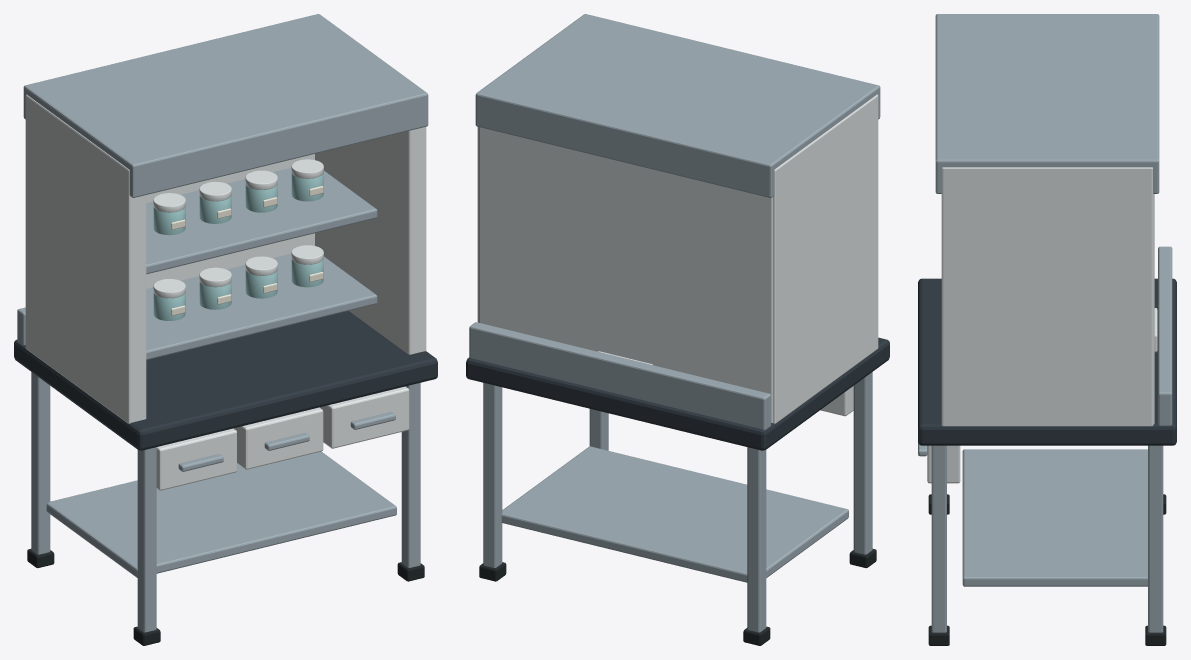
Rendered from culture-cabinet.glb.
3 renders of one model, left to right at view 1: azimuth 30°, elevation 25°; view 2: azimuth 150°, elevation 25°; view 3: azimuth 270°, elevation 25°, orthographic.
Visible parts, largest first — view 1: Canopy, Side, Worktop, Equipment shelf, Side.001, Shelf, Shelf.001, Tubular leg, Cabinet drawer.001, Cabinet drawer.002, Tubular leg.001, Tubular leg.002 (+10 smaller); view 2: Cabinet back, Canopy, Side, Equipment shelf, Splashback, Worktop, Tubular leg.001, Tubular leg.003, Tubular leg, Tubular leg.002; view 3: Side.001, Canopy, Equipment shelf, Worktop, Tubular leg.002, Tubular leg.003, Splashback, Cabinet drawer.002, Cabinet back.
Part boxes in pixels (x1=…): Canopy: x1=23, y1=14, x2=428, y2=197; Side: x1=25, y1=94, x2=146, y2=423; Worktop: x1=14, y1=311, x2=437, y2=450; Equipment shelf: x1=46, y1=451, x2=396, y2=577; Side.001: x1=315, y1=127, x2=426, y2=354; Shelf: x1=146, y1=254, x2=377, y2=359; Shelf.001: x1=146, y1=168, x2=377, y2=274; Tubular leg: x1=137, y1=447, x2=156, y2=632; Cabinet drawer.001: x1=233, y1=407, x2=323, y2=469; Cabinet drawer.002: x1=320, y1=386, x2=409, y2=448; Tubular leg.001: x1=31, y1=372, x2=50, y2=554; Tubular leg.002: x1=401, y1=383, x2=420, y2=567; Cabinet back: x1=479, y1=127, x2=772, y2=422; Canopy: x1=475, y1=14, x2=880, y2=197; Side: x1=773, y1=94, x2=878, y2=423; Equipment shelf: x1=501, y1=446, x2=848, y2=582; Splashback: x1=469, y1=322, x2=770, y2=429; Worktop: x1=466, y1=337, x2=889, y2=450; Tubular leg.001: x1=747, y1=447, x2=766, y2=632; Tubular leg.003: x1=483, y1=383, x2=502, y2=567; Tubular leg: x1=853, y1=372, x2=872, y2=554; Tubular leg.002: x1=589, y1=409, x2=608, y2=450; Side.001: x1=941, y1=167, x2=1153, y2=426; Canopy: x1=935, y1=14, x2=1159, y2=193; Equipment shelf: x1=962, y1=449, x2=1147, y2=586; Worktop: x1=918, y1=278, x2=1176, y2=445; Tubular leg.002: x1=931, y1=445, x2=946, y2=632; Tubular leg.003: x1=1148, y1=445, x2=1163, y2=632; Splashback: x1=1158, y1=246, x2=1172, y2=425; Cabinet drawer.002: x1=927, y1=445, x2=960, y2=483; Cabinet back: x1=1153, y1=194, x2=1154, y2=424.
Bounding box in the file's own units: 1.5 × 2.3 × 1.1.
